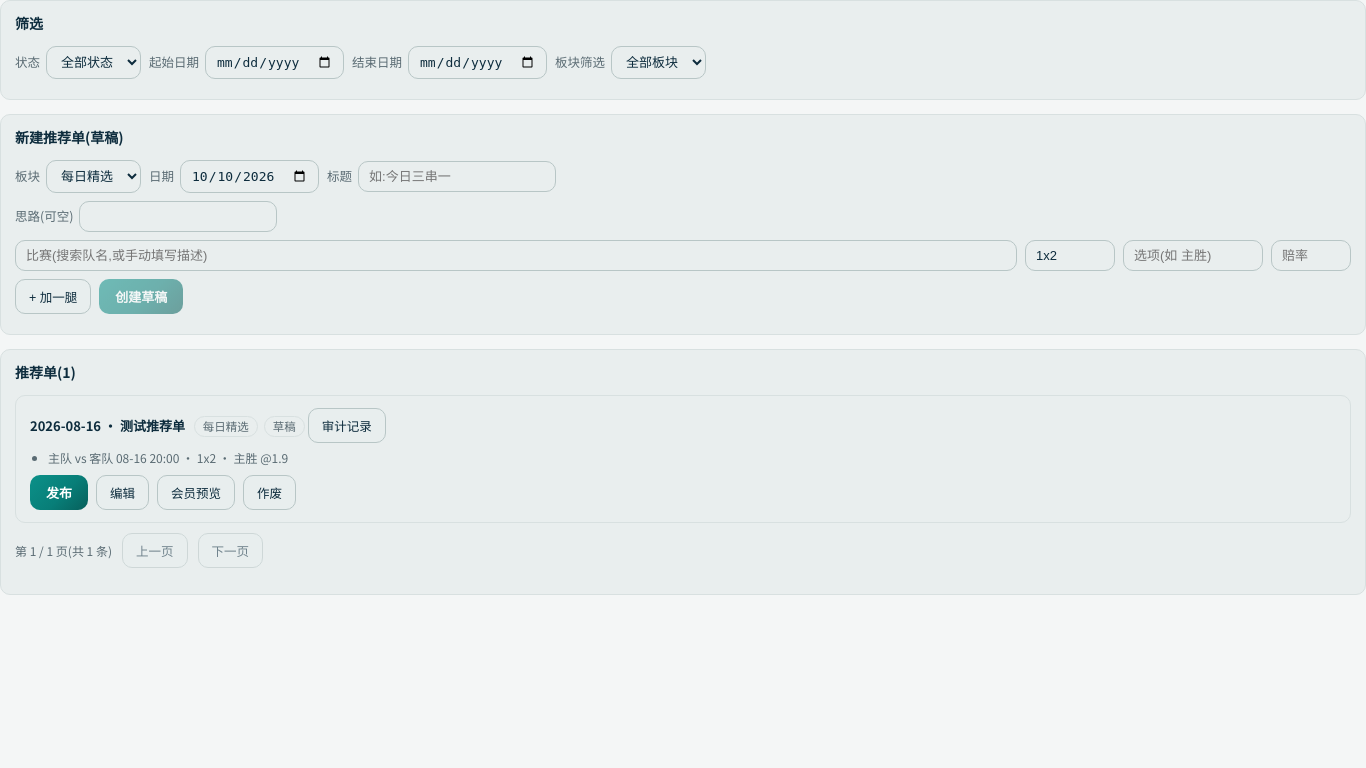
发布二次确认(站内面板,2026-08-19 起不再用 window.confirm) › 后端拒绝发布(缺乏真实溯源)时,把具体错误文案原样展示,不是笼统的「操作失败」
Expected: the text "2026-08-16 · 测试推荐单" is shown, left=30, top=416, right=185, bottom=435
Click the button "发布" at (59, 492), box left=30, top=475, right=88, bottom=510
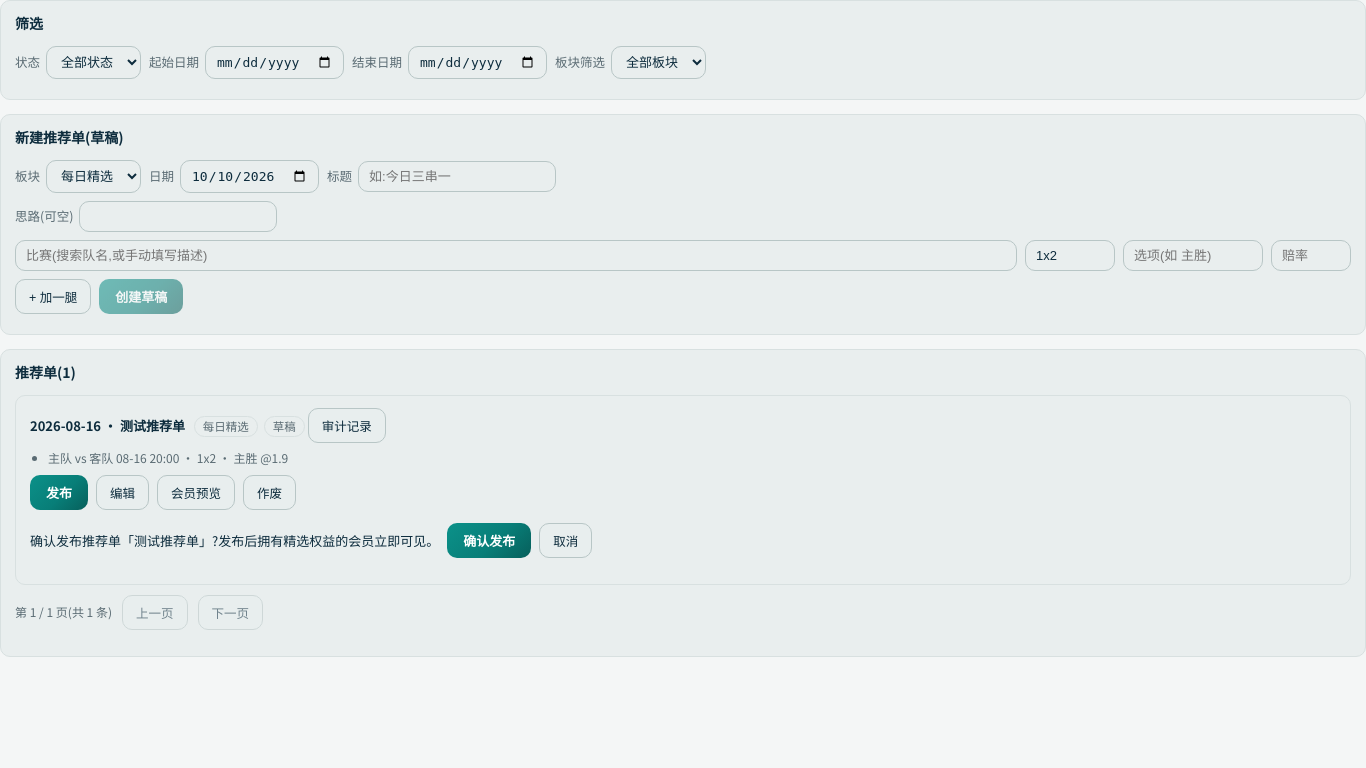
Now the text "确认发布推荐单「测试推荐单」?发布后拥有精选权益的会员立即可见。" is shown, box left=30, top=531, right=439, bottom=550
Click the button "确认发布" at (489, 541), box left=447, top=523, right=531, bottom=558
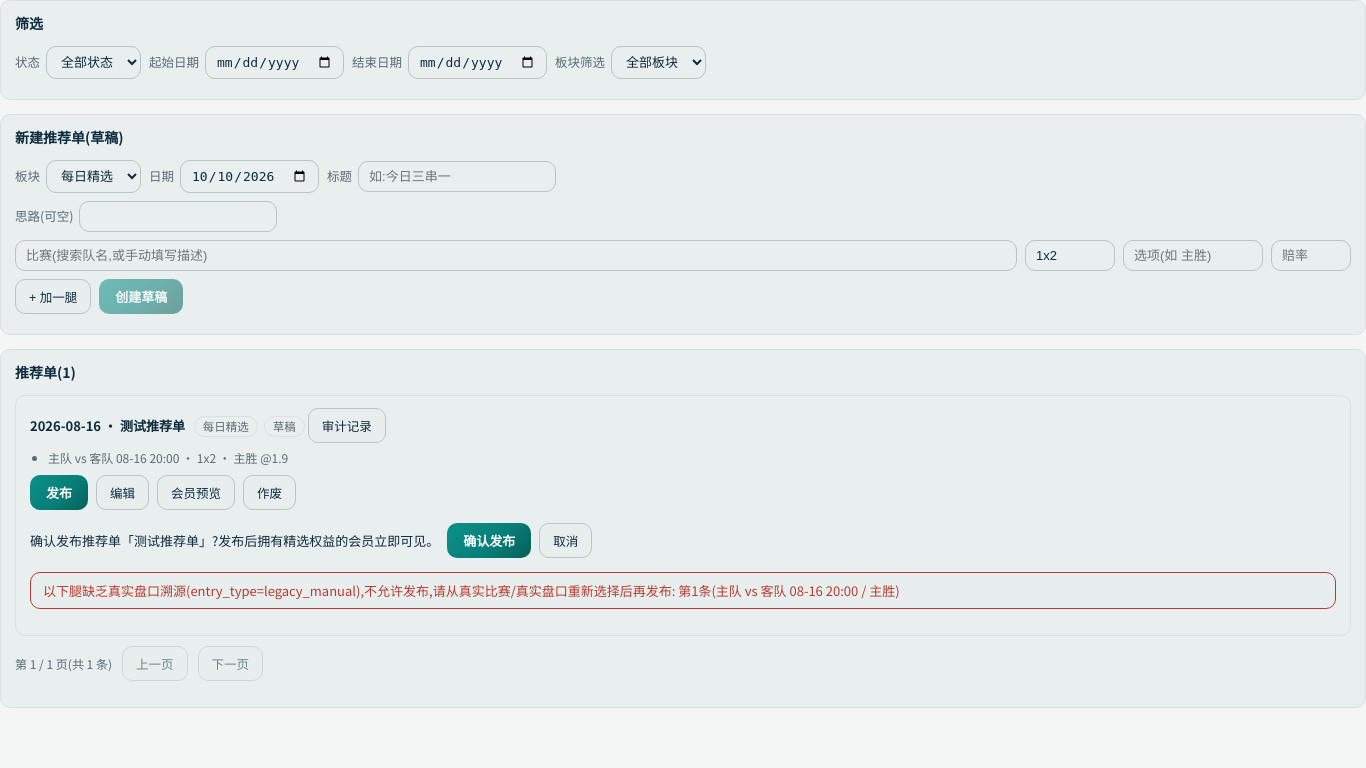
Now the text "以下腿缺乏真实盘口溯源" is shown, box left=43, top=580, right=900, bottom=600
